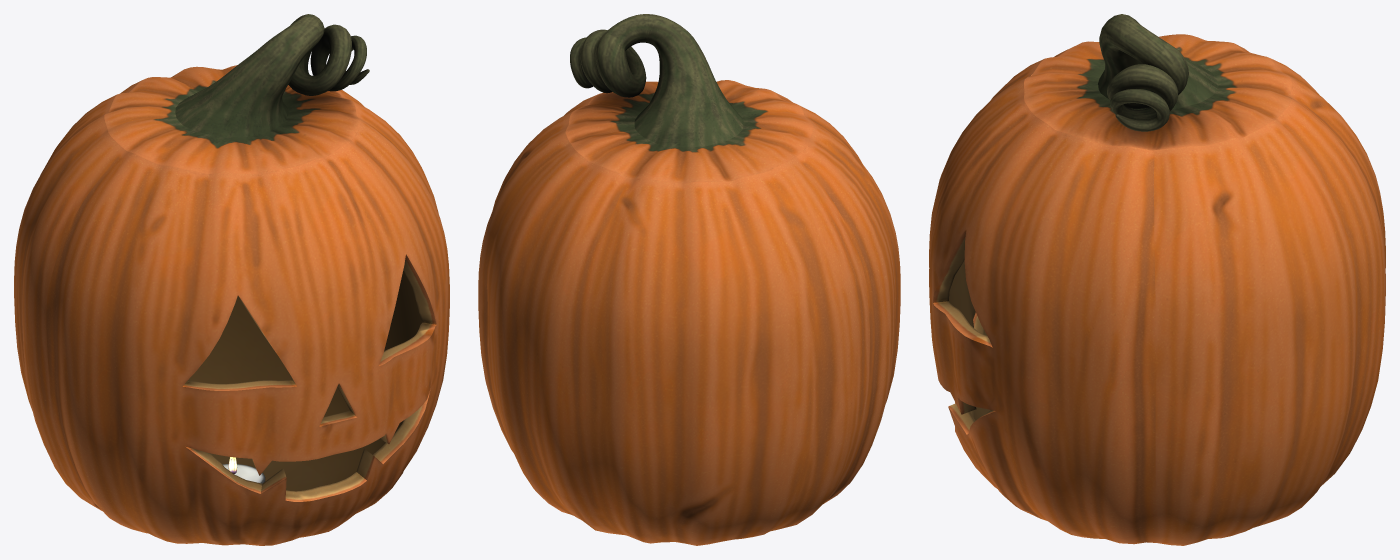
Rendered from jack-o-lantern_02.gltf.
3 views of the same model, side by side, from view 1: azimuth 30°, elevation 25°; view 2: azimuth 150°, elevation 25°; view 3: azimuth 270°, elevation 25° (orthographic). The views are drawn at different scales.
Parts seen in each view (by area): view 1: Pumpkin_02, Pumpkin_cap_02, candle; view 2: Pumpkin_02, Pumpkin_cap_02; view 3: Pumpkin_02, Pumpkin_cap_02.
Part boxes in pixels (x1,y1,x2,y2): Pumpkin_02: (14, 74, 449, 545); Pumpkin_cap_02: (104, 14, 369, 174); candle: (222, 457, 265, 483); Pumpkin_02: (478, 91, 900, 545); Pumpkin_cap_02: (565, 14, 813, 183); Pumpkin_02: (929, 44, 1385, 545); Pumpkin_cap_02: (1024, 14, 1291, 150).
Size of the model in its own units: 0.2518 by 0.3124 by 0.251.
1 material, 1 textured.
